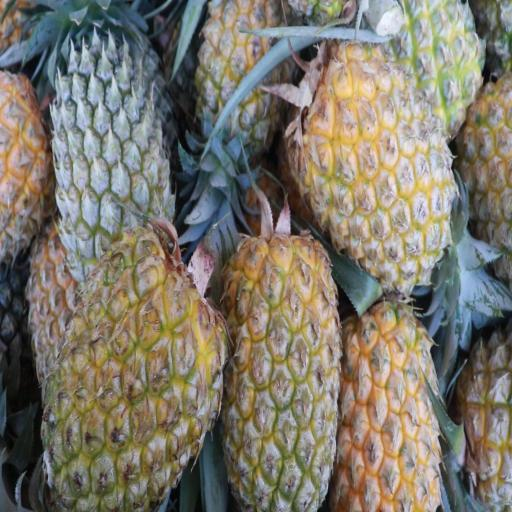------------------------------: (196, 0, 290, 149), (30, 218, 84, 392)
Pineapple - v8 v1: (45, 220, 222, 512), (304, 40, 443, 276), (225, 238, 340, 506), (342, 294, 440, 512)
